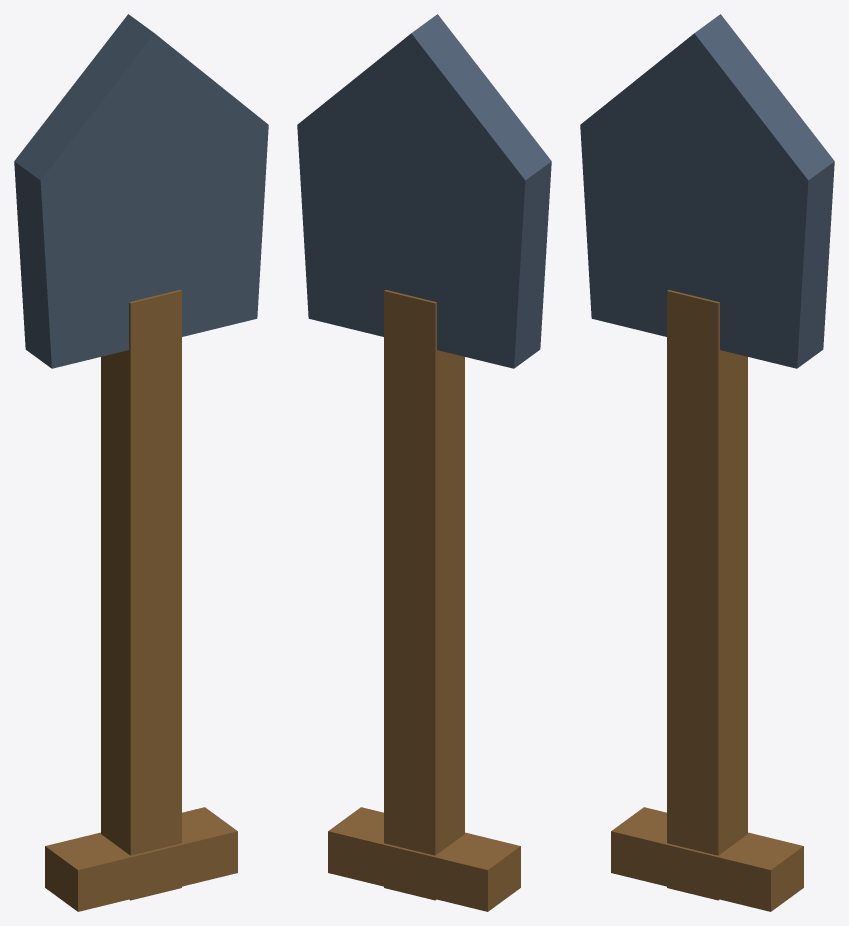
The model's file is shovel_steel.fbx.
The picture shows the model from 3 angles, left to right: view 1: azimuth 30°, elevation 25°; view 2: azimuth 150°, elevation 25°; view 3: azimuth 330°, elevation 25°; orthographic projection.
Parts seen in each view (by area): view 1: shovel_steel; view 2: shovel_steel; view 3: shovel_steel.
Part boxes in pixels (x1,y1,x2,y2): shovel_steel: (14,14,268,911); shovel_steel: (297,14,551,911); shovel_steel: (580,14,834,911).
Bounding box in the file's own units: 0.6 × 2.16 × 0.15.
